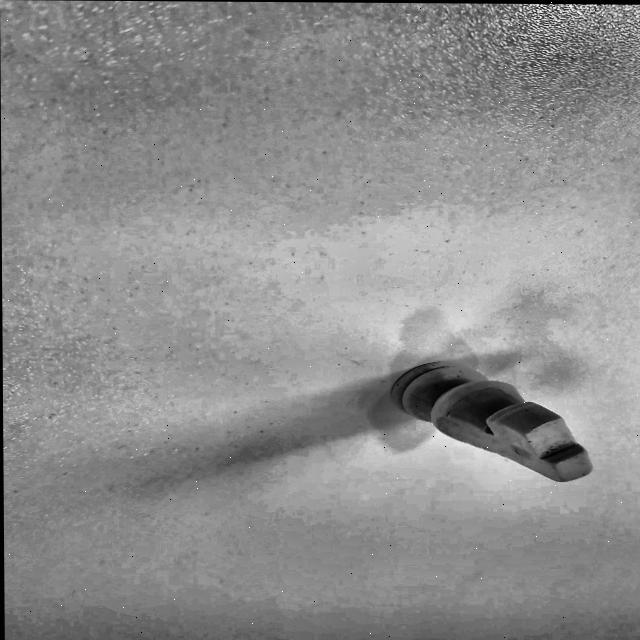white-knight: (388, 359, 592, 483)
